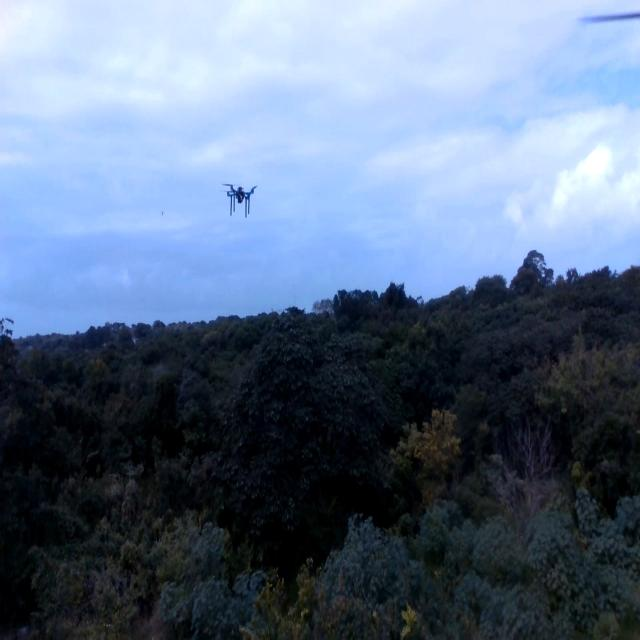-uav-: (217, 169, 265, 234)
